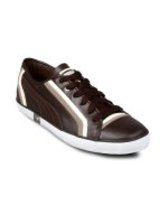shoes: (13, 56, 154, 158)
